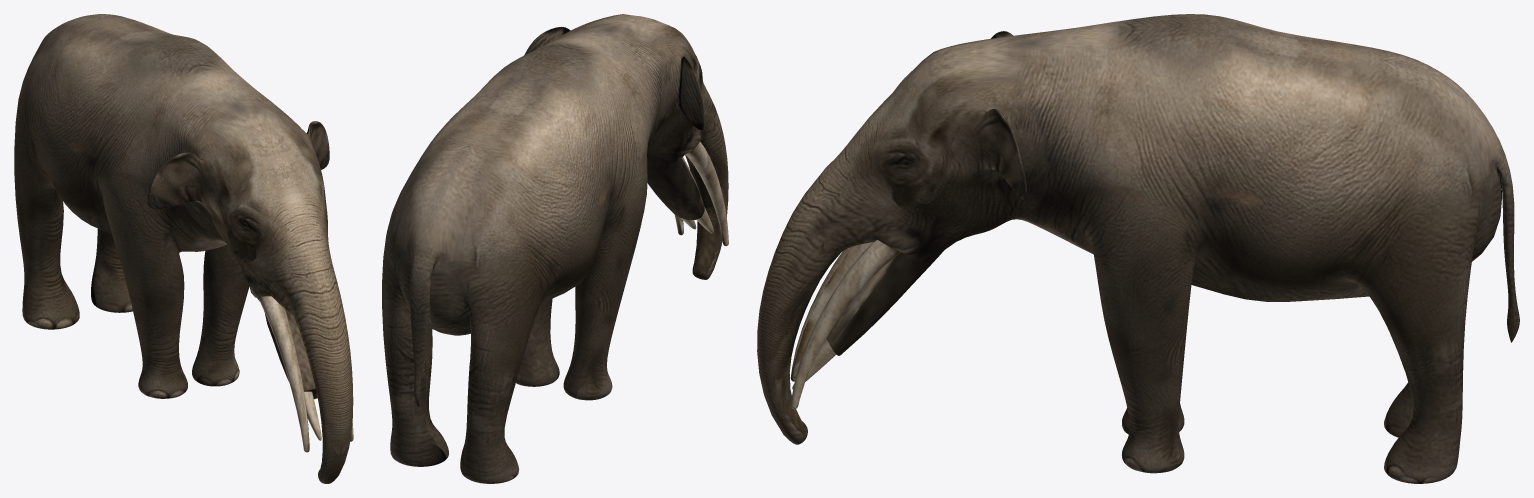
File: 01_Gomphotherium.fbx
3 renders of one model, left to right at view 1: azimuth 30°, elevation 25°; view 2: azimuth 150°, elevation 25°; view 3: azimuth 270°, elevation 25°, orthographic. The views are drawn at different scales.
Visible parts, largest first — view 1: Cube, Cylinder, Cube.002; view 2: Cube, Cylinder; view 3: Cube, Cylinder.
Part boxes in pixels (x1=…): Cube: x1=14, y1=14, x2=353, y2=483; Cylinder: x1=258, y1=296, x2=353, y2=452; Cube.002: x1=304, y1=391, x2=321, y2=440; Cube: x1=382, y1=14, x2=728, y2=483; Cylinder: x1=675, y1=142, x2=728, y2=246; Cube: x1=757, y1=14, x2=1519, y2=483; Cylinder: x1=790, y1=240, x2=900, y2=409.
Bounding box in the file's own units: 492 × 847 × 1384.
